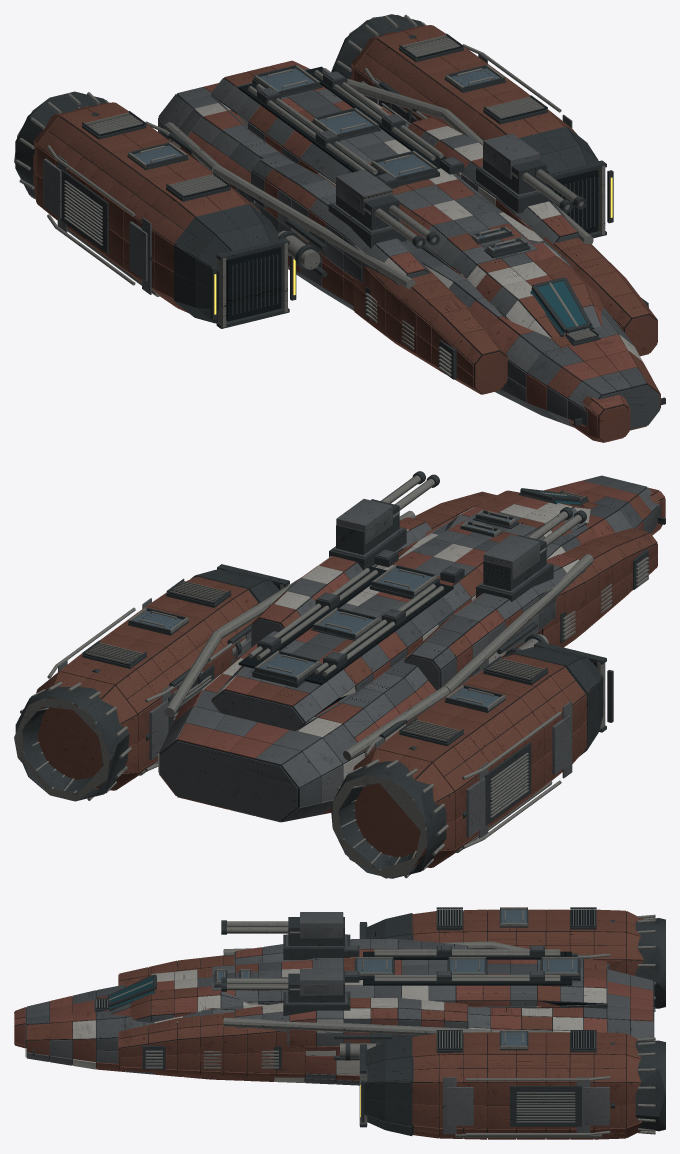
Rendered from model-reduced.glb.
The picture shows the model from 3 angles, top to bottom: view 1: azimuth 30°, elevation 25°; view 2: azimuth 150°, elevation 25°; view 3: azimuth 270°, elevation 25°; orthographic projection. The views are drawn at different scales.
Parts seen in each view (by area): view 1: salvage-red-0, dark-structure, machined-alloy, armour-2, armour-0, armour-3, armour-1, recess-black, salvage-red-1, salvage-red-2, pale-steel-0, blue-grey-1 (+3 smaller); view 2: salvage-red-0, dark-structure, machined-alloy, armour-0, armour-2, armour-3, salvage-red-1, salvage-red-2, armour-1, pale-steel-0, blue-grey-1, recess-black (+2 smaller); view 3: salvage-red-0, dark-structure, machined-alloy, salvage-red-2, armour-3, armour-2, armour-1, pale-steel-0, armour-0, salvage-red-1, recess-black, blue-grey-1 (+6 smaller).
Boxes of the visible parts, <box> form: salvage-red-0: <box>33,25,660,442</box>; dark-structure: <box>15,14,665,425</box>; machined-alloy: <box>14,14,648,376</box>; armour-2: <box>177,68,660,425</box>; armour-0: <box>158,71,659,429</box>; armour-3: <box>43,53,600,427</box>; armour-1: <box>158,82,633,418</box>; recess-black: <box>100,46,598,341</box>; salvage-red-1: <box>180,110,660,439</box>; salvage-red-2: <box>203,60,646,442</box>; pale-steel-0: <box>172,62,642,392</box>; blue-grey-1: <box>133,68,521,249</box>; salvage-red-0: <box>36,490,664,867</box>; dark-structure: <box>15,471,665,878</box>; machined-alloy: <box>14,475,648,878</box>; armour-0: <box>159,475,660,822</box>; armour-2: <box>159,487,659,822</box>; armour-3: <box>58,510,651,838</box>; salvage-red-1: <box>177,485,659,757</box>; salvage-red-2: <box>159,480,665,814</box>; armour-1: <box>195,479,652,787</box>; pale-steel-0: <box>158,487,590,781</box>; blue-grey-1: <box>134,513,510,706</box>; recess-black: <box>84,566,597,742</box>; salvage-red-0: <box>14,909,644,1139</box>; dark-structure: <box>32,907,665,1135</box>; machined-alloy: <box>96,907,655,1137</box>; salvage-red-2: <box>14,947,652,1079</box>; armour-3: <box>49,939,609,1134</box>; armour-2: <box>26,912,653,1074</box>; armour-1: <box>26,927,606,1085</box>; pale-steel-0: <box>73,949,606,1082</box>; armour-0: <box>25,934,654,1073</box>; salvage-red-1: <box>15,949,652,1080</box>; recess-black: <box>97,909,595,1049</box>; blue-grey-1: <box>217,910,577,1045</box>.
Size of the model in its own units: 33.82 by 11.65 by 56.19.
14 materials, 12 textured.
